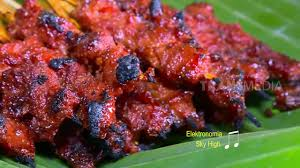sate: (3, 1, 300, 167)
